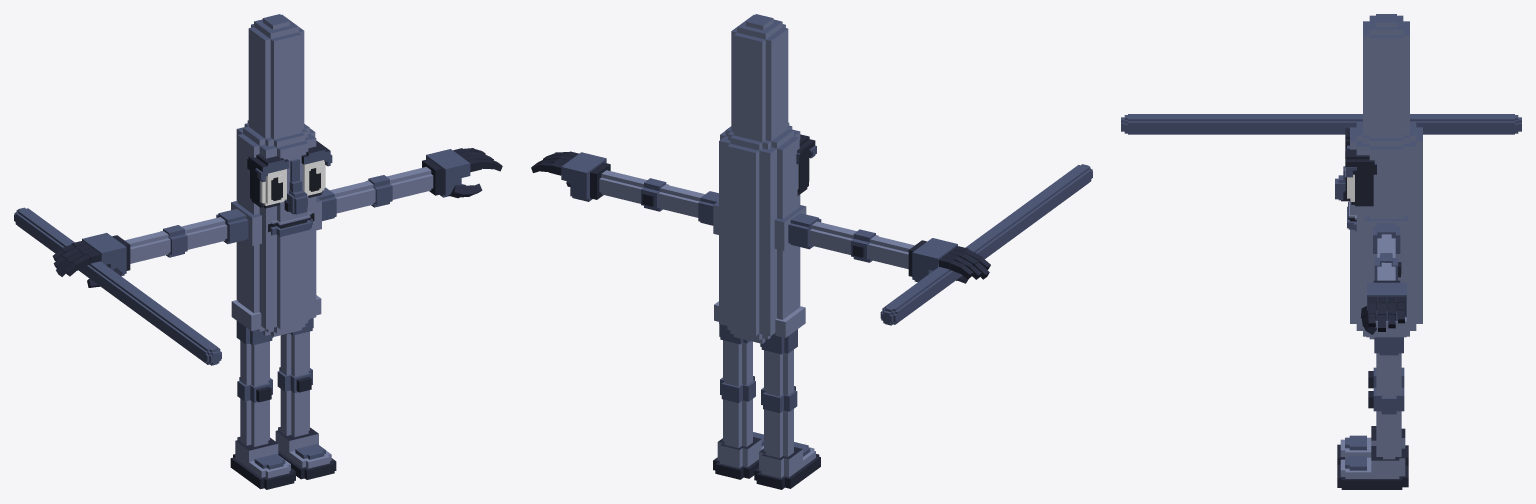
File: steal_a_brainrot_to_to_to_sahur.glb
3 views of the same model, side by side, from view 1: azimuth 30°, elevation 25°; view 2: azimuth 150°, elevation 25°; view 3: azimuth 270°, elevation 25° (orthographic). The views are drawn at different scales.
Visible parts, largest first — view 1: Object_4, Object_5, Object_7, Object_6; view 2: Object_4, Object_5, Object_7; view 3: Object_4, Object_5, Object_7.
Part boxes in pixels (x1,y1,x2,y2): Object_4: (125,18,433,478); Object_5: (14,14,470,469); Object_7: (52,140,502,489); Object_6: (260,160,325,232); Object_4: (599,18,914,478); Object_5: (561,14,1092,456); Object_7: (531,134,990,489); Object_4: (1340,22,1422,478); Object_5: (1121,14,1521,470); Object_7: (1337,128,1408,489).
Size of the model in its own units: 10.41 by 9.99 by 8.01.
Materials: 4 (1 with a texture image).
